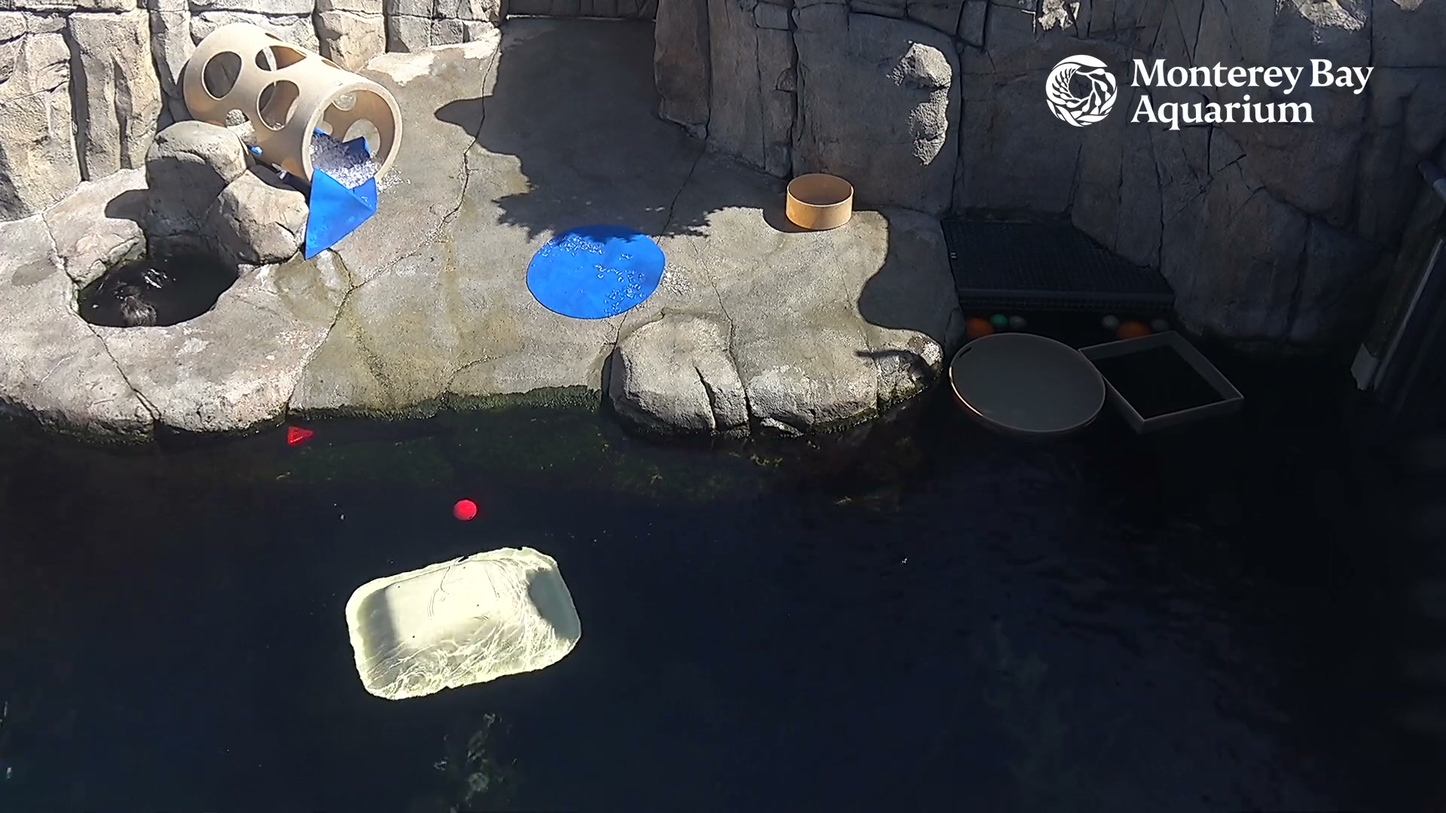Southern Sea Otter: (88, 259, 183, 338)
